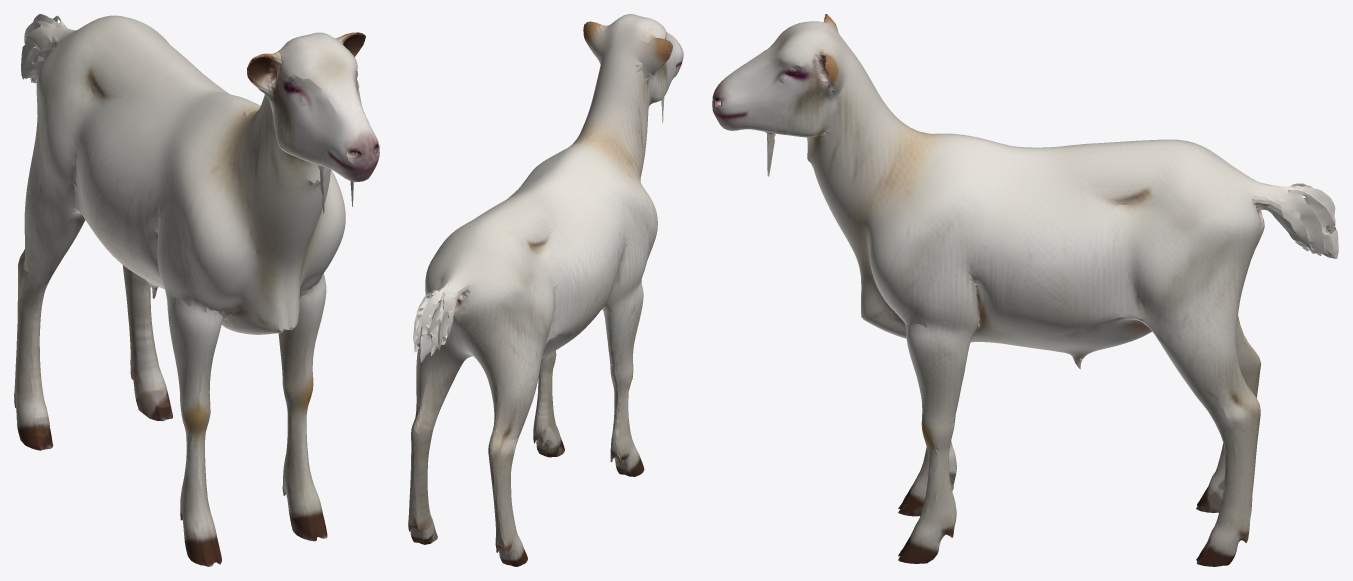
The model's file is goat.glb.
The picture shows the model from 3 angles, left to right: view 1: azimuth 30°, elevation 25°; view 2: azimuth 150°, elevation 25°; view 3: azimuth 270°, elevation 25°; orthographic projection. The views are drawn at different scales.
Parts seen in each view (by area): view 1: model; view 2: model; view 3: model.
Boxes of the visible parts, x1,y1,x2,y2 form: model: (14, 14, 379, 566); model: (408, 14, 683, 566); model: (712, 14, 1338, 566).
Size of the model in its own units: 0.5502 by 1.7 by 1.9.
Materials: 1 (1 with a texture image).
